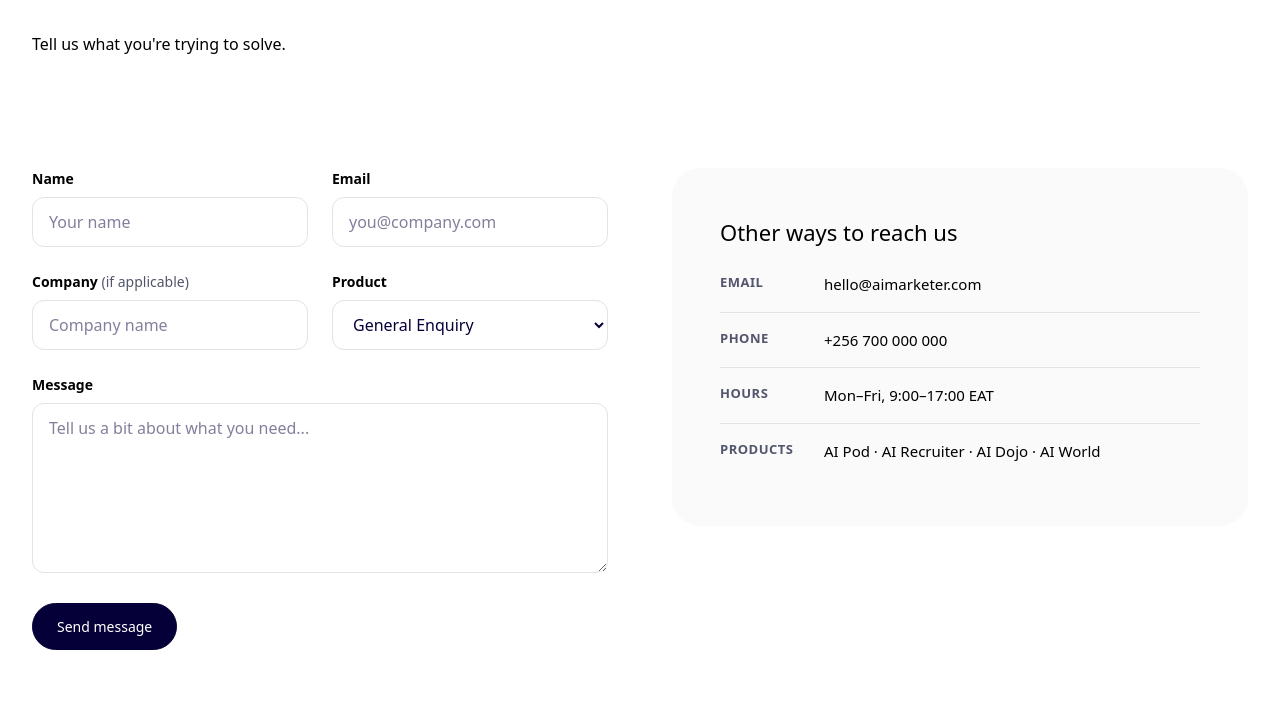
Test case: ContactPage › shows error on failed submission
In the field labelled "Name": (170, 222) [32,197,308,247], type "John"
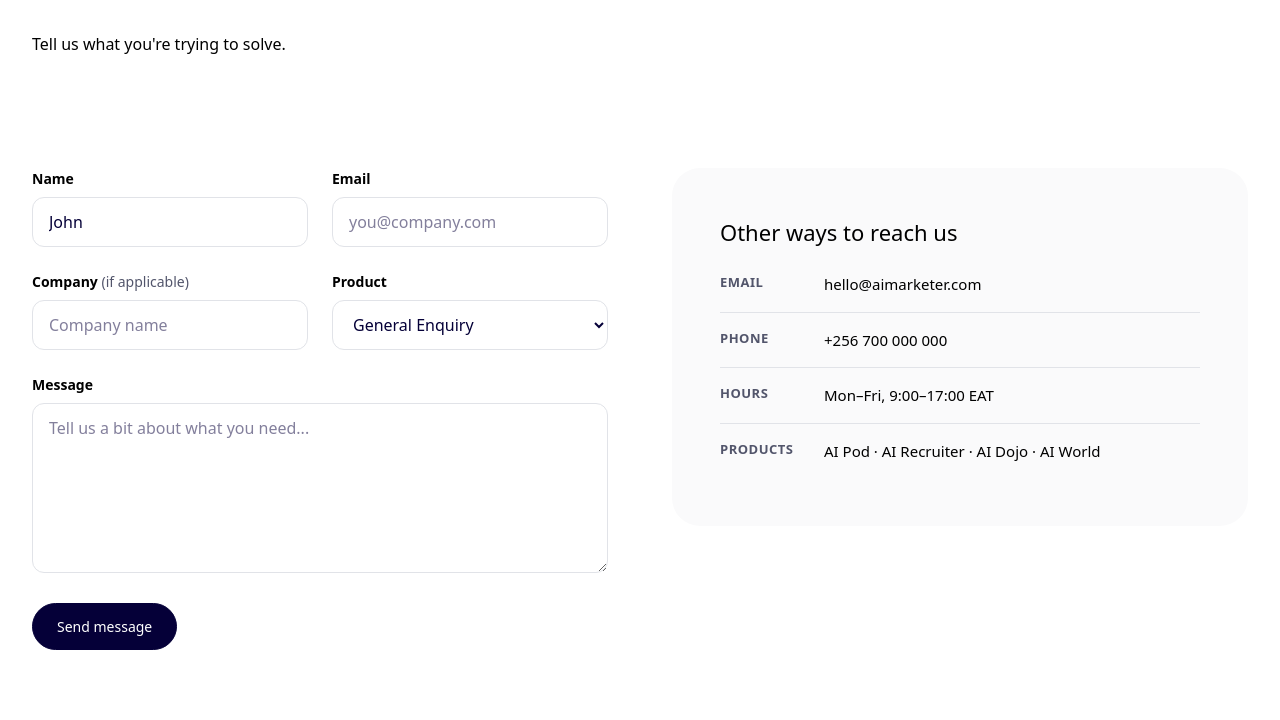
In the field labelled "Email": (470, 222) [332,197,608,247], type "john@test.com"
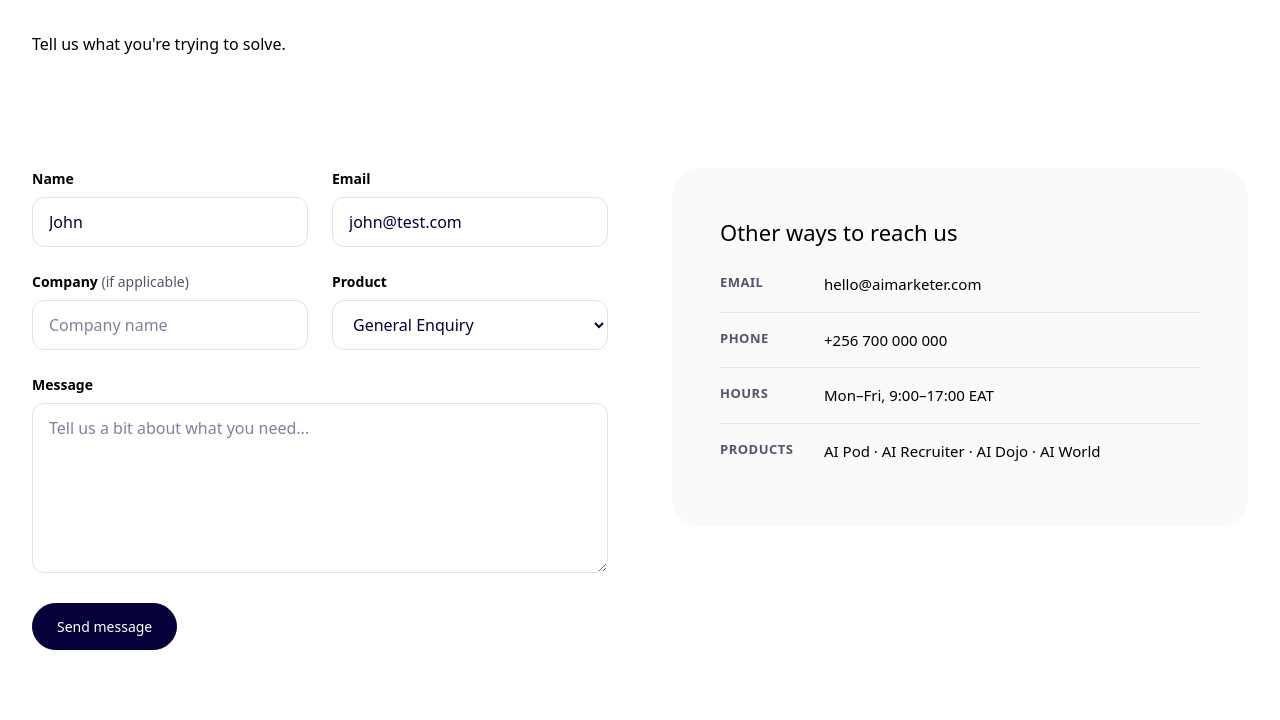
In the text box labelled "Message": (320, 488) [32,403,608,573], type "Hello"
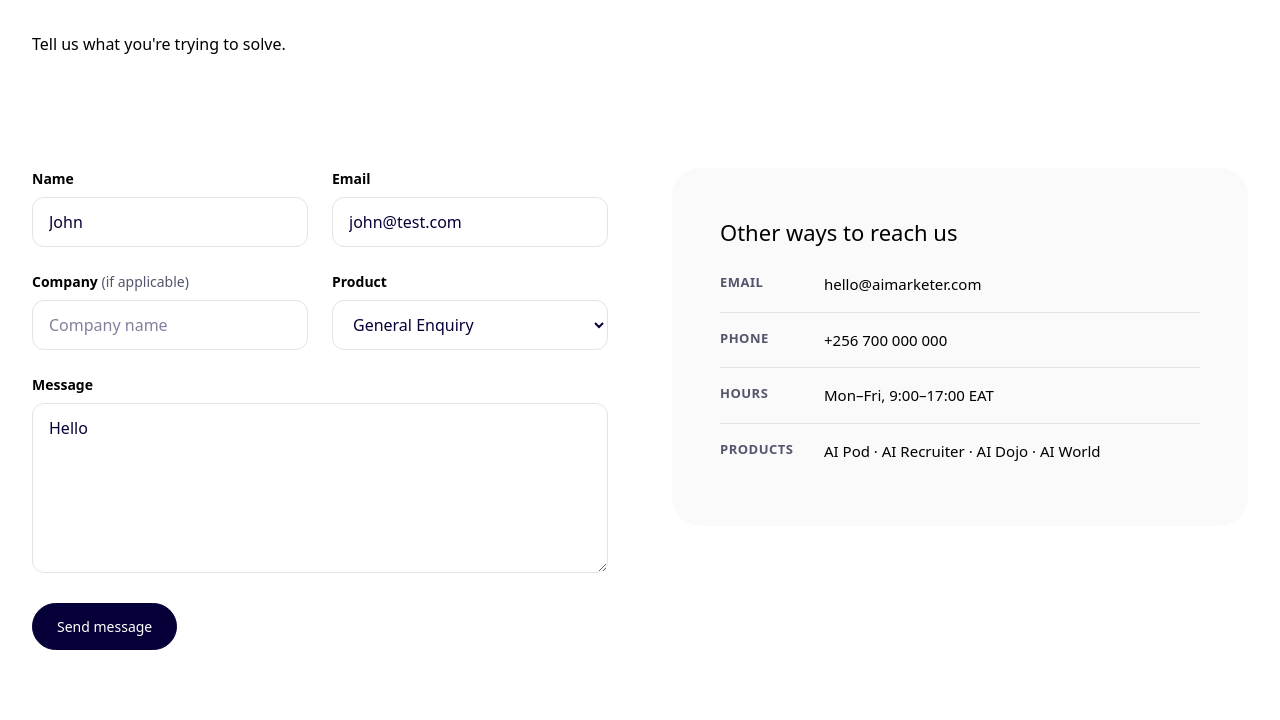
Click the button "Send message": (105, 626) [32,603,177,650]
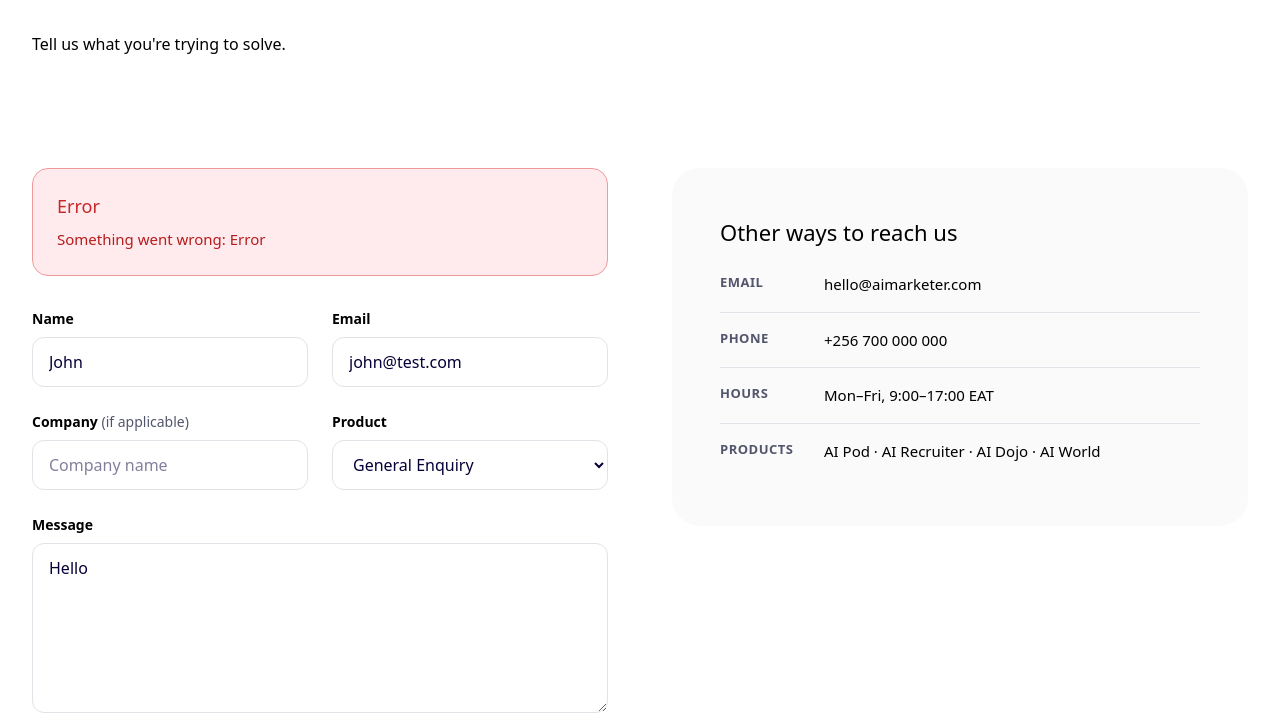
Now the text "Something went wrong: Error" is shown, box [57,229,266,249]
